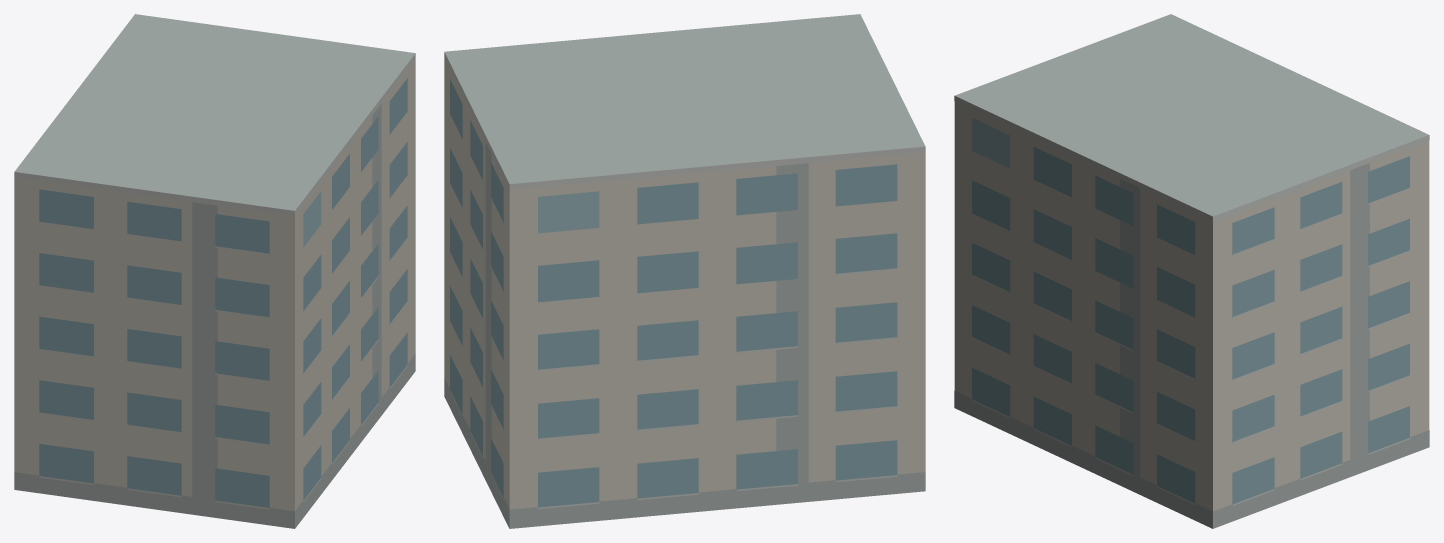
File: survey-upis-32936167.glb
3 renders of one model, left to right at view 1: azimuth 30°, elevation 25°; view 2: azimuth 150°, elevation 25°; view 3: azimuth 270°, elevation 25°, orthographic. The views are drawn at different scales.
Parts seen in each view (by area): view 1: survey-upis-32936167.tmp; view 2: survey-upis-32936167.tmp; view 3: survey-upis-32936167.tmp.
Boxes of the visible parts, left/top/right/bottom form: survey-upis-32936167.tmp: left=14, top=14, right=415, bottom=528; survey-upis-32936167.tmp: left=444, top=14, right=925, bottom=528; survey-upis-32936167.tmp: left=954, top=14, right=1429, bottom=528.
Size of the model in its own units: 19.2 by 13.8 by 19.02.
